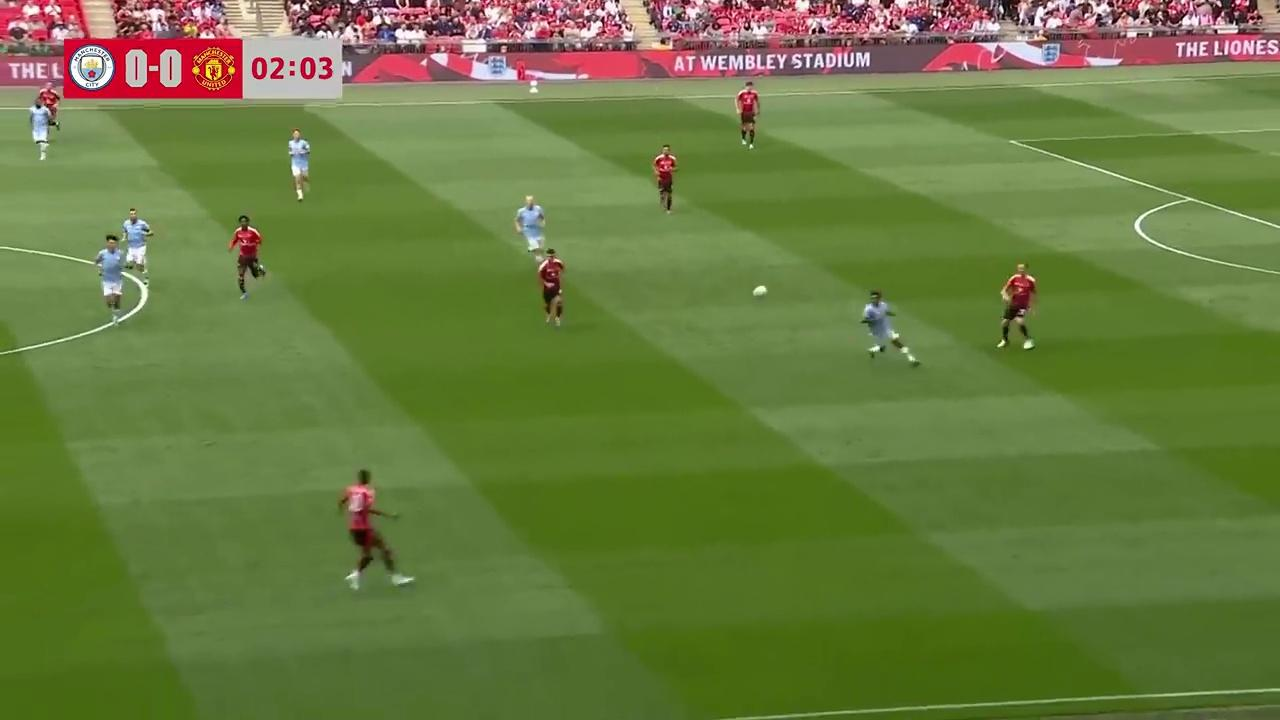ball: (750, 281, 769, 300)
player: (337, 467, 406, 591), (860, 289, 922, 366), (997, 262, 1038, 351), (226, 214, 266, 300), (93, 237, 127, 326), (120, 207, 154, 289), (537, 248, 564, 327), (515, 195, 545, 259), (287, 127, 311, 201), (652, 144, 677, 215), (734, 79, 760, 147), (29, 95, 51, 160), (44, 80, 62, 132)
